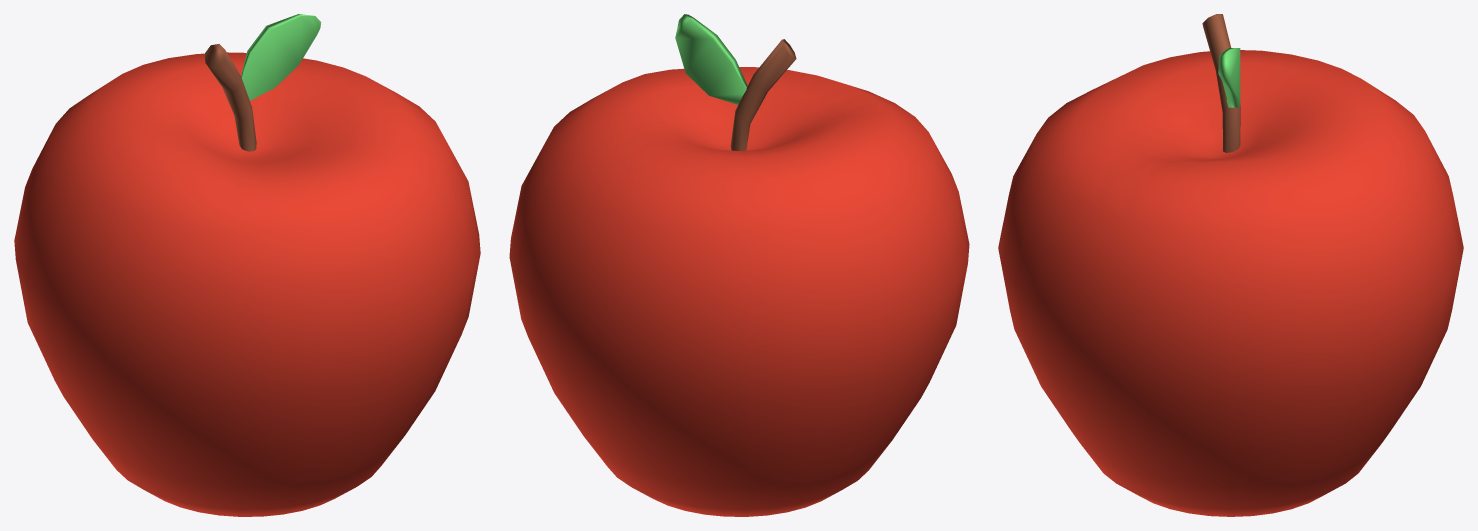
File: apple.fbx
The picture shows the model from 3 angles, left to right: view 1: azimuth 30°, elevation 25°; view 2: azimuth 150°, elevation 25°; view 3: azimuth 270°, elevation 25°; orthographic projection.
Parts seen in each view (by area): view 1: Sphere, Cube, Cylinder; view 2: Sphere, Cube, Cylinder; view 3: Sphere, Cylinder, Cube.
Boxes of the visible parts, box(x1,y1,x2,y2) form: Sphere: box(14, 52, 480, 516); Cube: box(241, 14, 321, 100); Cylinder: box(205, 44, 256, 151); Sphere: box(509, 67, 969, 516); Cube: box(675, 14, 747, 104); Cylinder: box(730, 39, 796, 150); Sphere: box(998, 50, 1463, 516); Cylinder: box(1202, 14, 1240, 152); Cube: box(1218, 48, 1240, 107).
Bounding box in the file's own units: 194 × 205 × 194.
